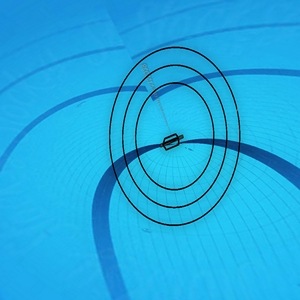circle: (104, 42, 242, 229)
submarine: (163, 133, 188, 151)
